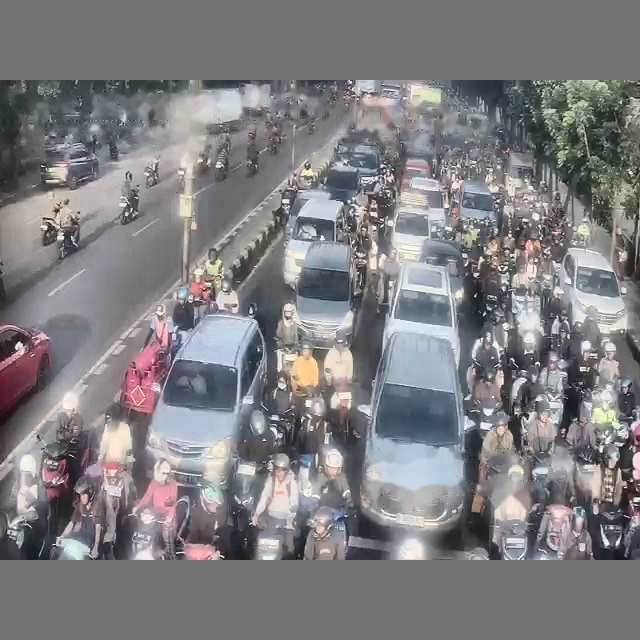Mobil: (358, 332, 466, 532), (145, 314, 266, 486), (383, 264, 460, 363), (295, 242, 362, 348), (560, 248, 627, 334), (283, 199, 347, 287), (0, 324, 52, 414), (419, 239, 465, 309), (40, 143, 98, 189), (403, 177, 448, 235), (386, 204, 430, 261), (285, 189, 329, 237), (459, 181, 496, 225), (323, 166, 359, 203), (401, 158, 430, 187)
Motor: (175, 496, 190, 550), (56, 227, 77, 259), (40, 216, 58, 245), (119, 196, 137, 224), (214, 157, 227, 181), (144, 165, 158, 187), (177, 167, 185, 192), (246, 158, 257, 176)
